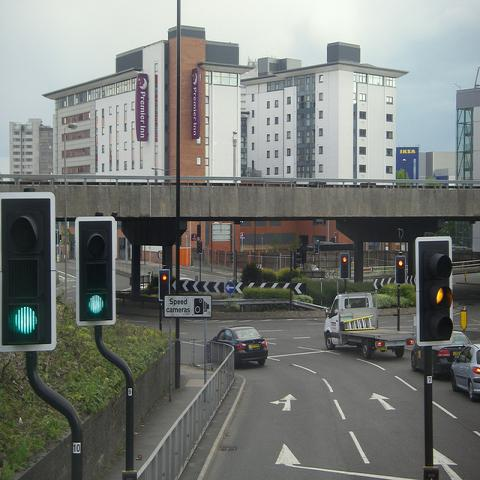car: (411, 330, 472, 378), (206, 326, 268, 369), (451, 342, 479, 403)
truck: (324, 293, 417, 364)
